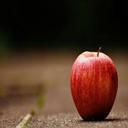apple: (69, 48, 119, 123)
